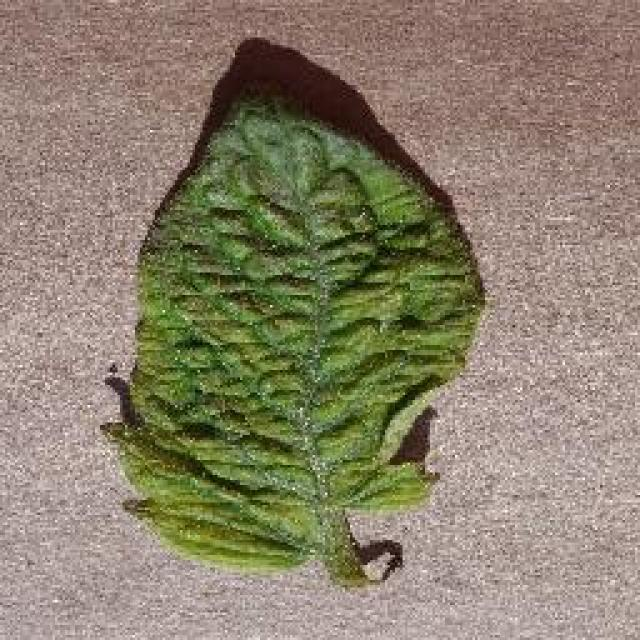Tomato yellow virus leaf: (105, 89, 487, 569)
